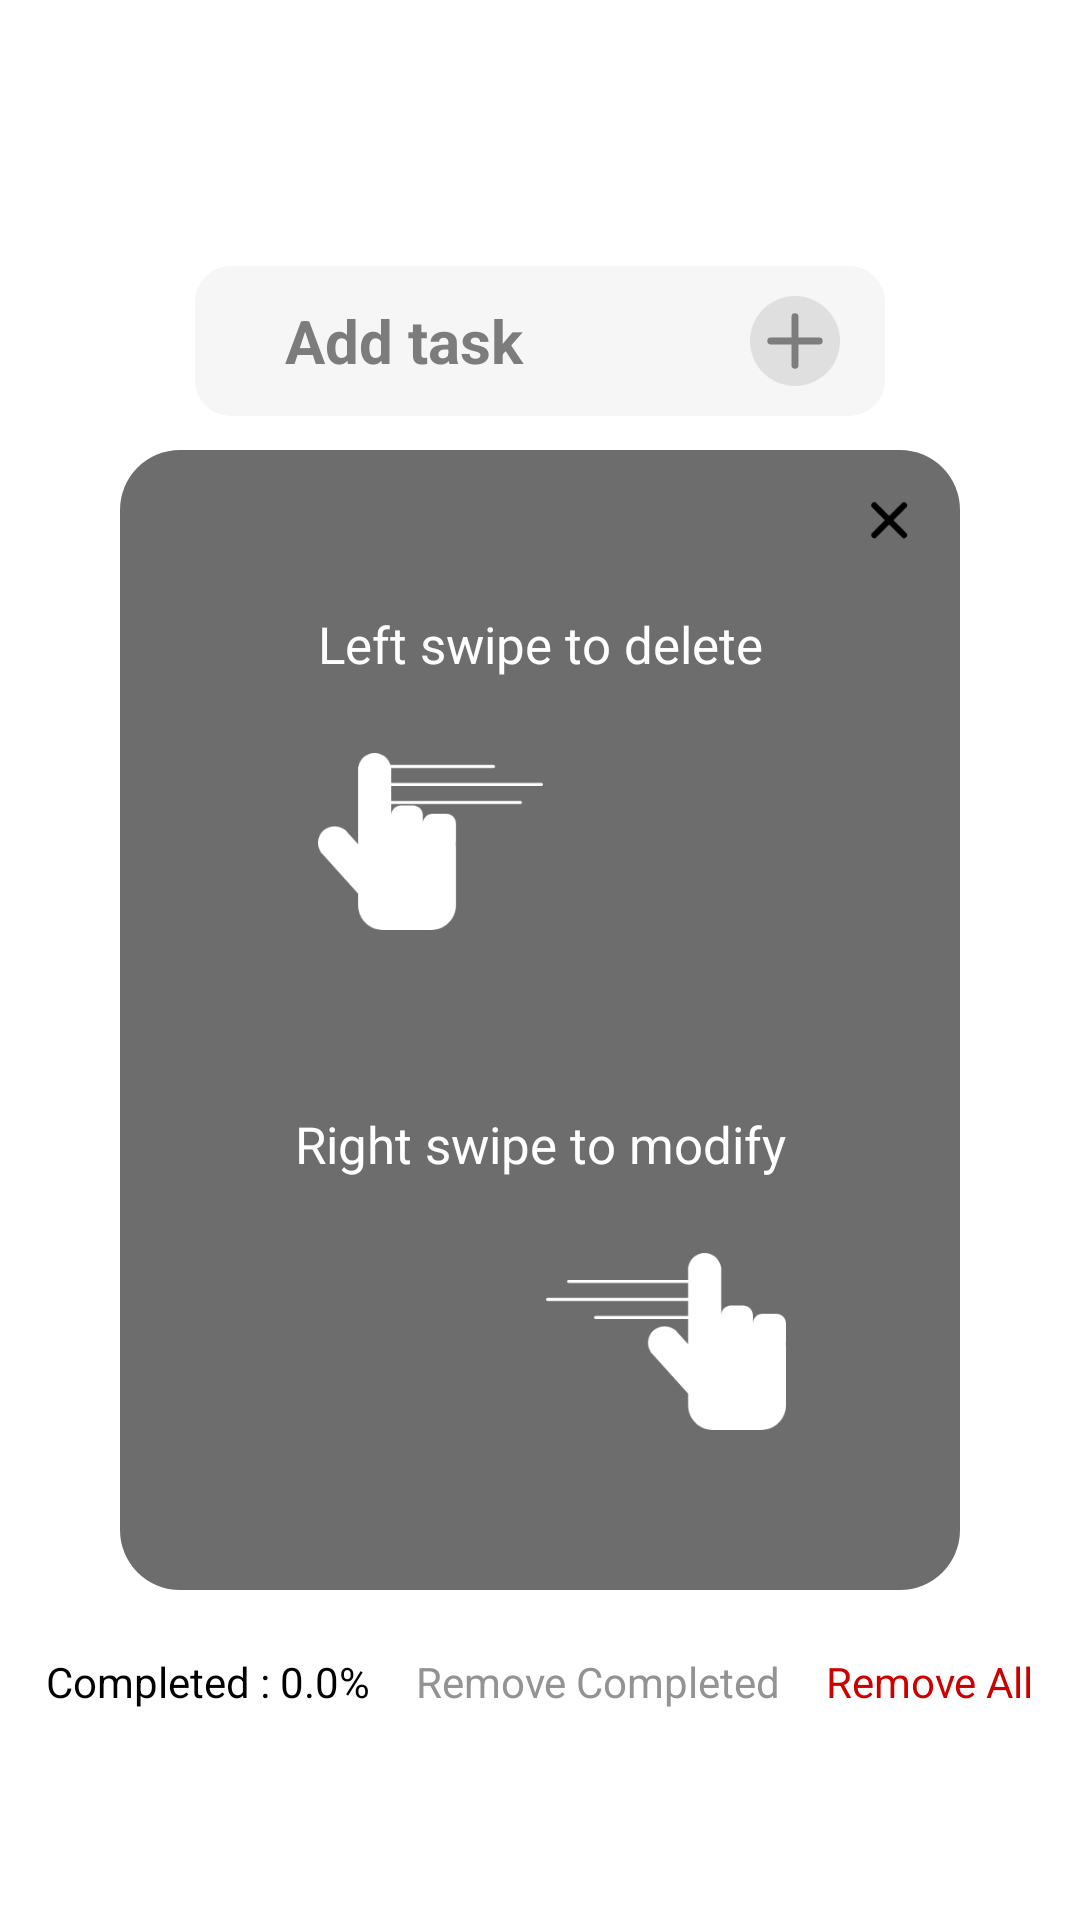

Screen size 1080px x 1920px. Icon name, then its center in pixels as point (x, y):
cancel: point (889, 520)
